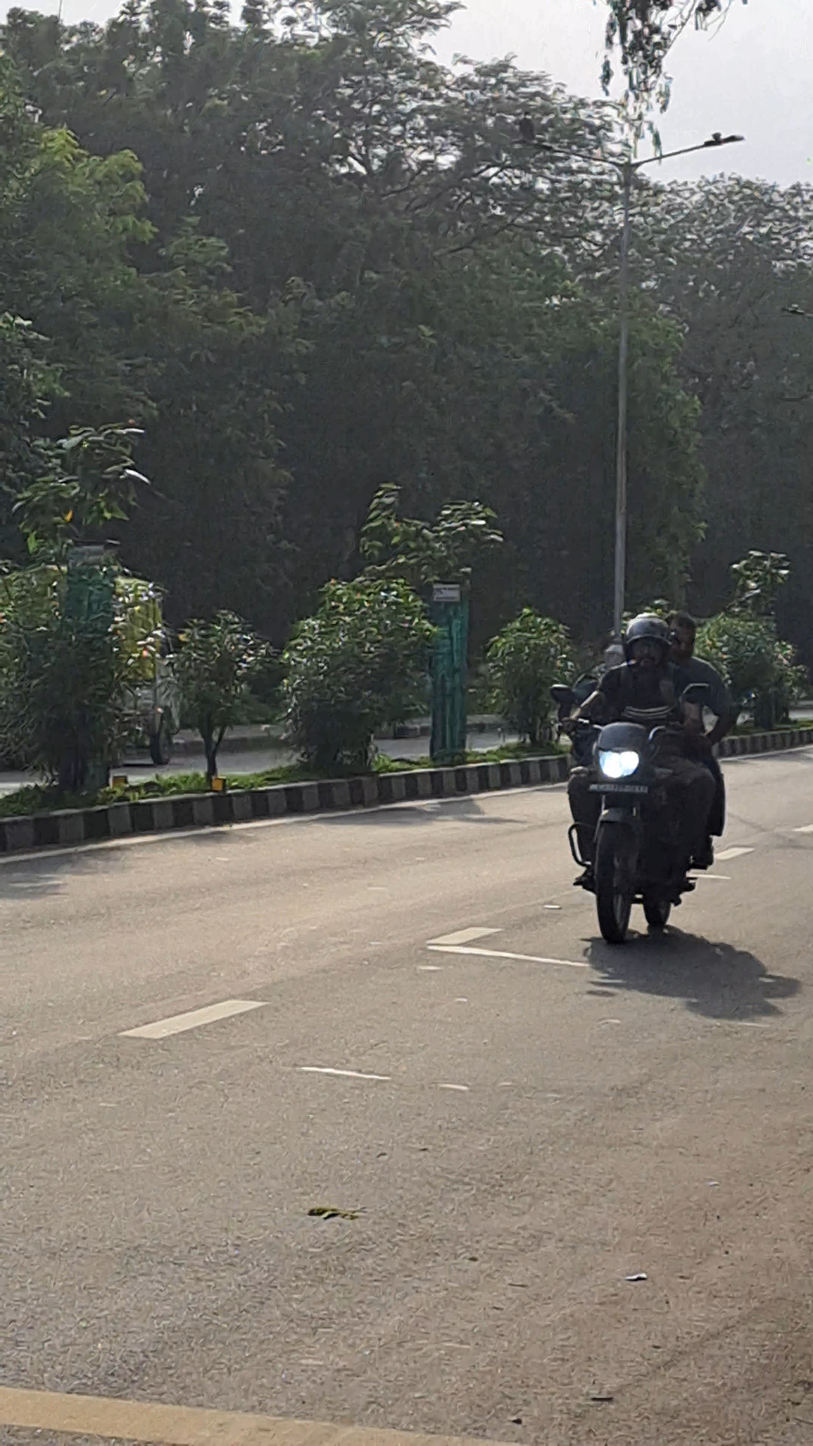BikeWithRider: (537, 580, 744, 938)
Helmet: (615, 615, 675, 684)
NoHelmet: (662, 607, 706, 667)
